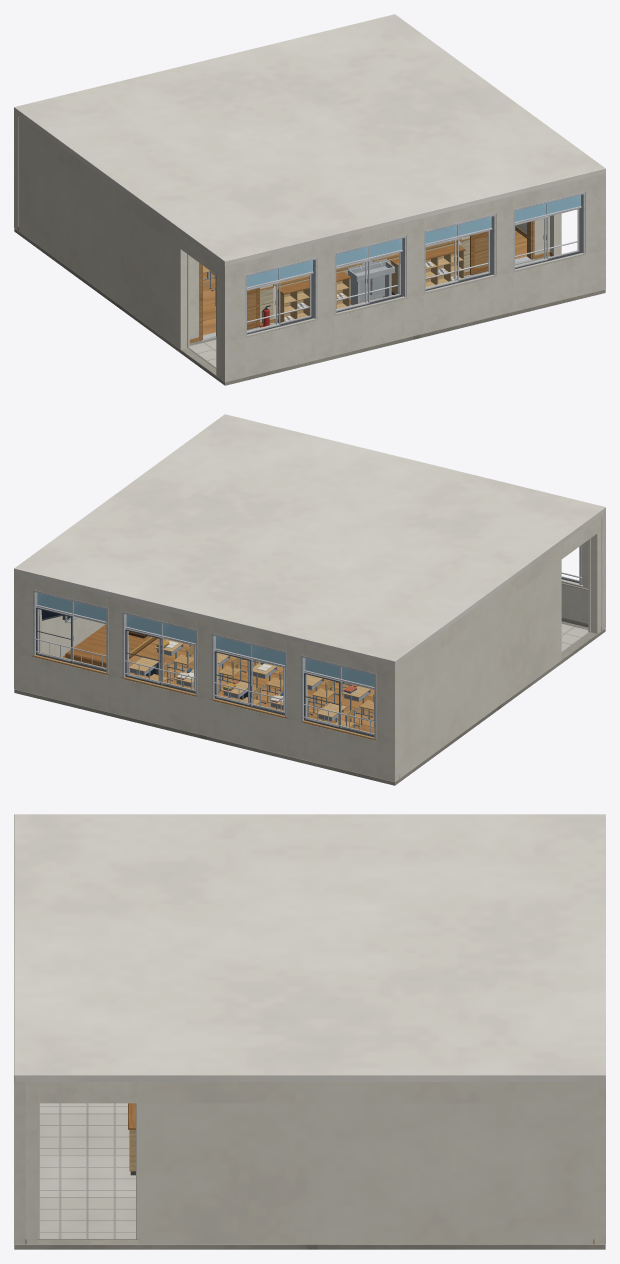
The model's file is kr_highschool_classroom_corridor.glb.
3 renders of one model, top to bottom at view 1: azimuth 30°, elevation 25°; view 2: azimuth 150°, elevation 25°; view 3: azimuth 270°, elevation 25°, orthographic. The views are drawn at different scales.
Visible parts, largest first — view 1: BG_Ceiling, BG_Wall_South, BG_Wall_West, BG_Floor, BG_Furniture_Hero, BG_Props_Clutter, BG_Wall_East, BG_Wall_North; view 2: BG_Ceiling, BG_Wall_North, BG_Wall_West, BG_Floor, BG_Furniture_Hero, BG_Wall_South, BG_Wall_East, BG_Props_Clutter; view 3: BG_Ceiling, BG_Wall_East, BG_Floor, BG_Wall_North, BG_Wall_South.
Boxes of the visible parts, x1,y1,x2,y2 form: BG_Ceiling: (14,14,605,265); BG_Wall_South: (220,173,605,381); BG_Wall_West: (18,115,220,378); BG_Floor: (14,216,605,385); BG_Furniture_Hero: (203,225,515,322); BG_Props_Clutter: (260,256,459,327); BG_Wall_East: (515,213,561,256); BG_Wall_North: (14,112,18,230); BG_Ceiling: (14,414,605,665); BG_Wall_North: (14,573,399,781); BG_Wall_West: (399,515,601,778); BG_Floor: (14,621,605,785); BG_Furniture_Hero: (65,624,374,728); BG_Wall_South: (561,512,605,630); BG_Wall_East: (41,610,105,657); BG_Props_Clutter: (146,640,357,702); BG_Ceiling: (14,814,605,1081); BG_Wall_East: (25,1082,594,1244); BG_Floor: (14,1103,605,1249); BG_Wall_North: (593,1082,605,1244); BG_Wall_South: (14,1082,26,1244).
Size of the model in its own units: 9.6 by 3 by 9.2.
4 materials, 4 textured.
